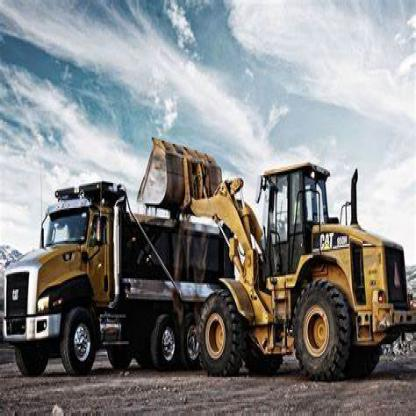bull_dozer/loader/grader: (134, 133, 415, 382)
